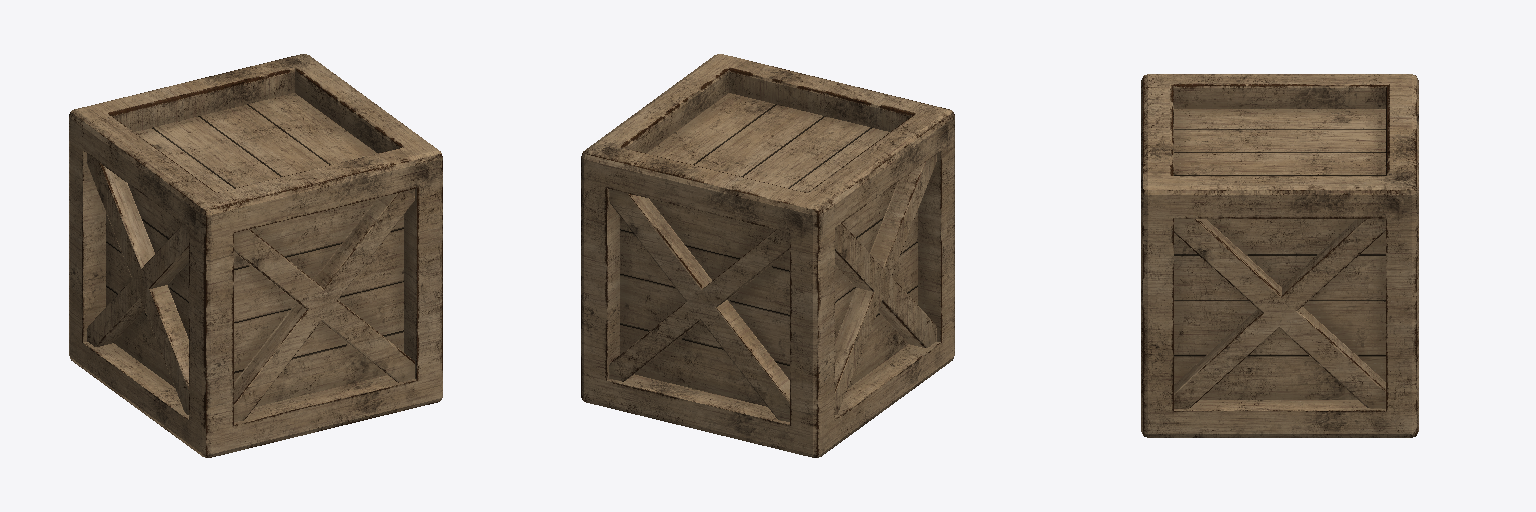
The picture shows the model from 3 angles: view 1: azimuth 30°, elevation 25°; view 2: azimuth 150°, elevation 25°; view 3: azimuth 270°, elevation 25°; orthographic projection.
Visible parts, largest first — view 1: Crate_Cube.009; view 2: Crate_Cube.009; view 3: Crate_Cube.009.
Part boxes in pixels (bbox=[...]): Crate_Cube.009: bbox=[69, 54, 442, 457]; Crate_Cube.009: bbox=[581, 54, 954, 457]; Crate_Cube.009: bbox=[1141, 74, 1418, 437].
Bounding box in the file's own units: 2 × 2 × 2.
1 materials, 1 textured.